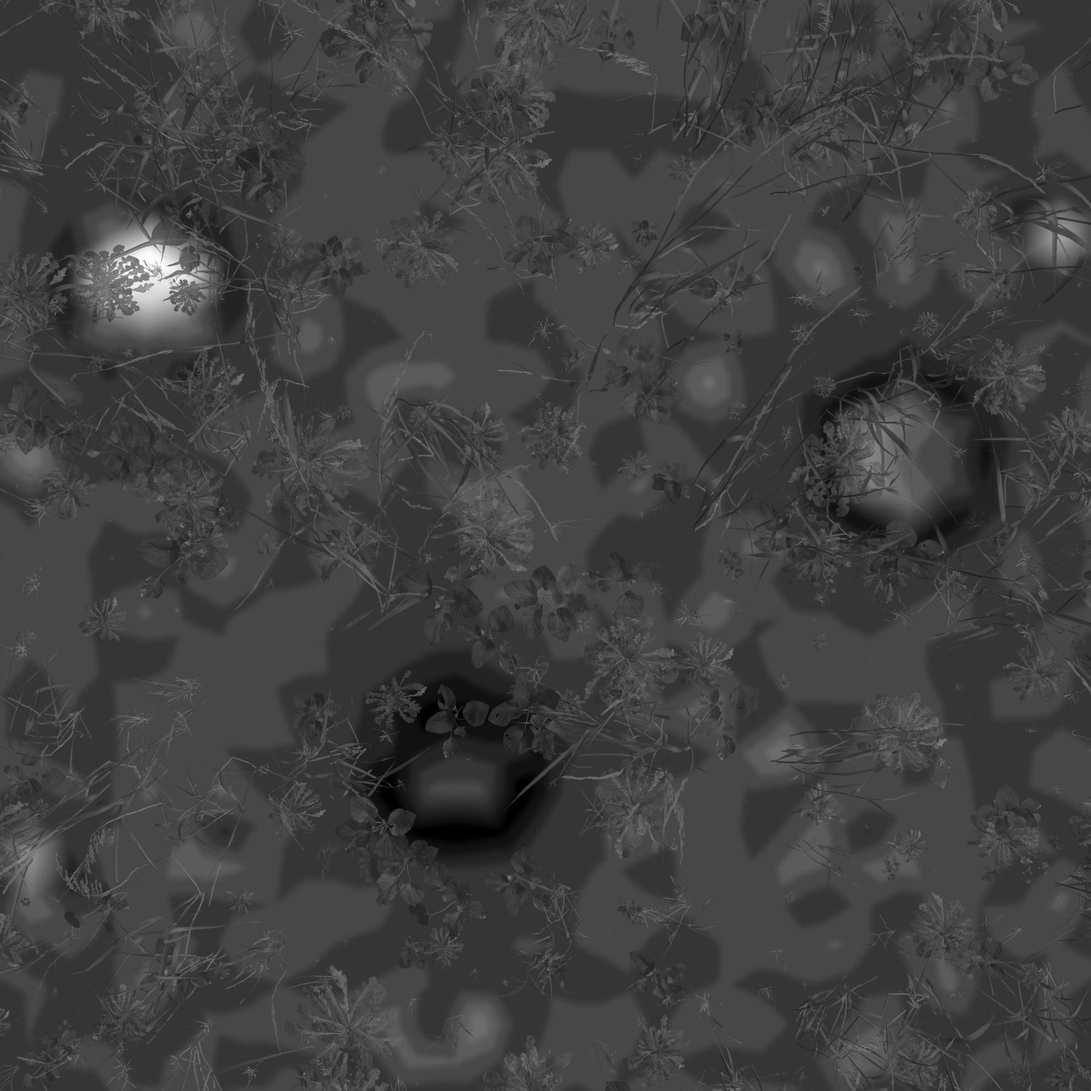landmine: (806, 358, 996, 548), (359, 685, 554, 860), (57, 203, 221, 359)
